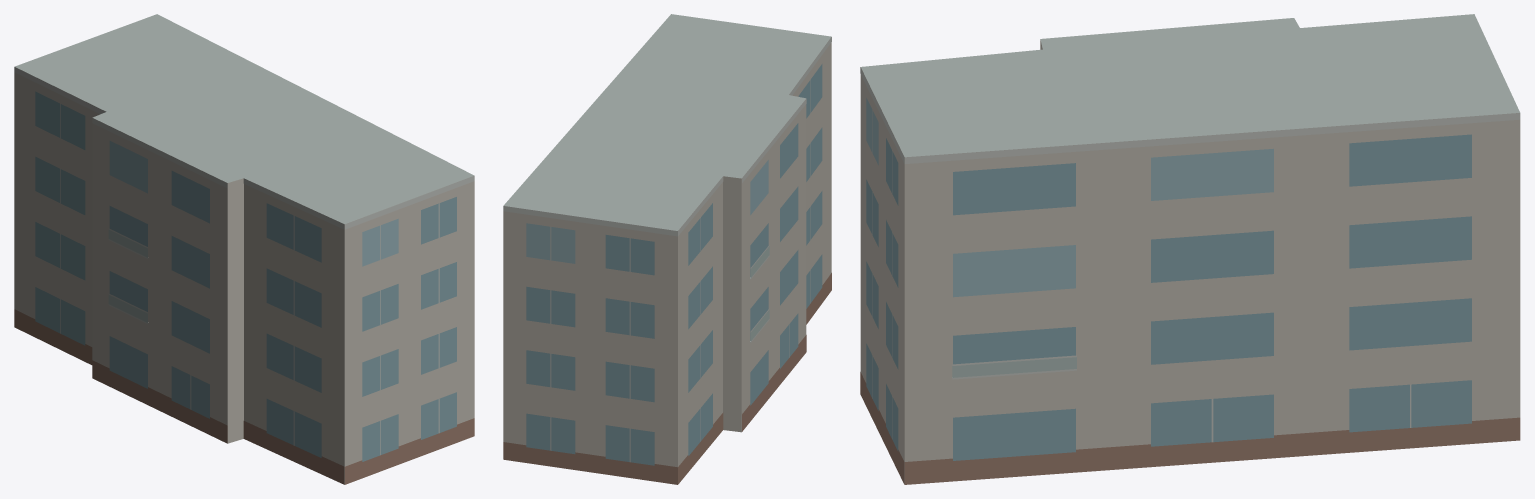
Rendered from survey-upis-32920372.glb.
3 views of the same model, side by side, from view 1: azimuth 30°, elevation 25°; view 2: azimuth 150°, elevation 25°; view 3: azimuth 270°, elevation 25° (orthographic). The views are drawn at different scales.
Parts seen in each view (by area): view 1: survey-upis-32920372.tmp; view 2: survey-upis-32920372.tmp; view 3: survey-upis-32920372.tmp.
Part boxes in pixels (x1=…): survey-upis-32920372.tmp: x1=14, y1=14, x2=474, y2=484; survey-upis-32920372.tmp: x1=503, y1=14, x2=831, y2=484; survey-upis-32920372.tmp: x1=860, y1=14, x2=1520, y2=484.
Size of the model in its own units: 10.89 by 11.6 by 21.18.
